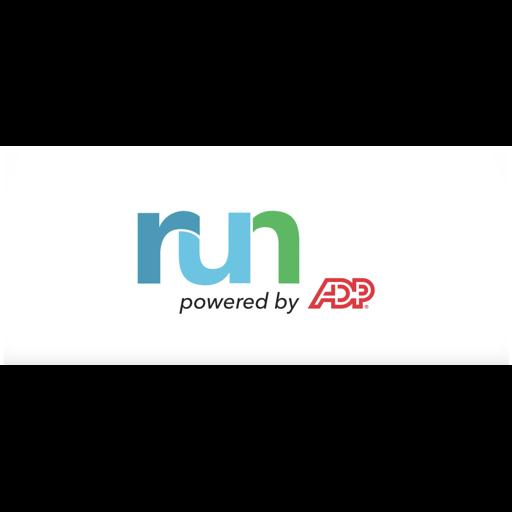ADP: (0, 146, 512, 365)
